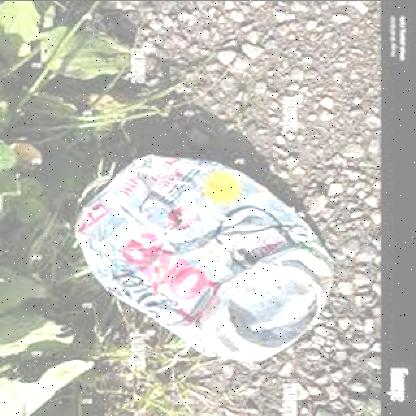Can: (45, 101, 368, 398)
